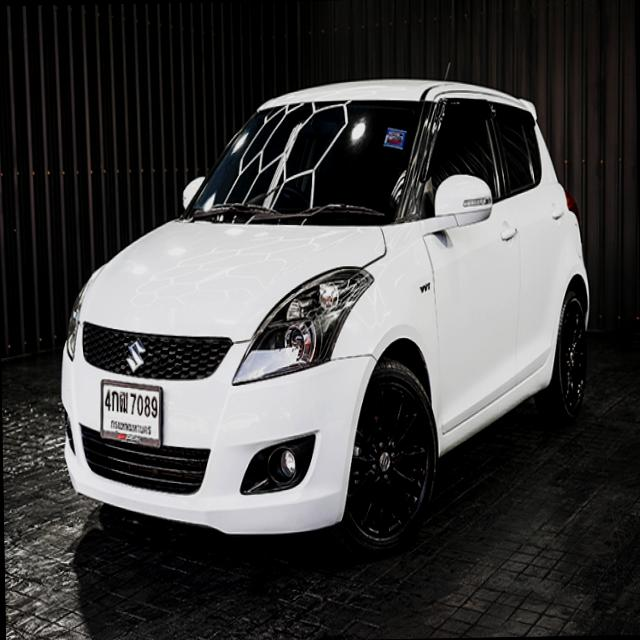license_plate: (96, 373, 166, 450)
